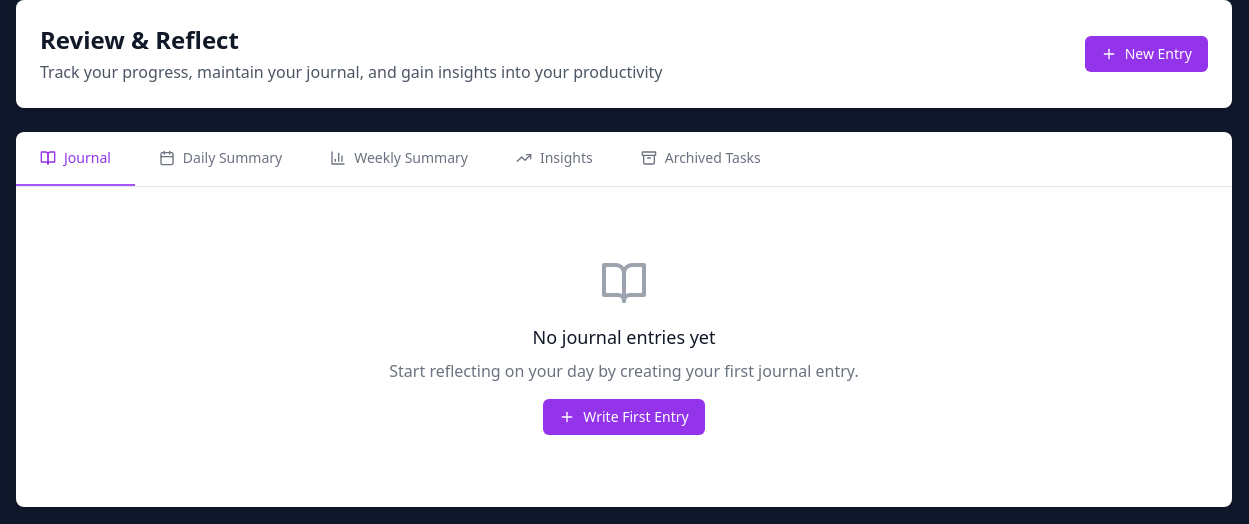
Test: TaskReview › Weekly Summary Tab › should display weekly statistics
Click the button "Weekly Summary": (399, 159) [306, 132, 492, 186]
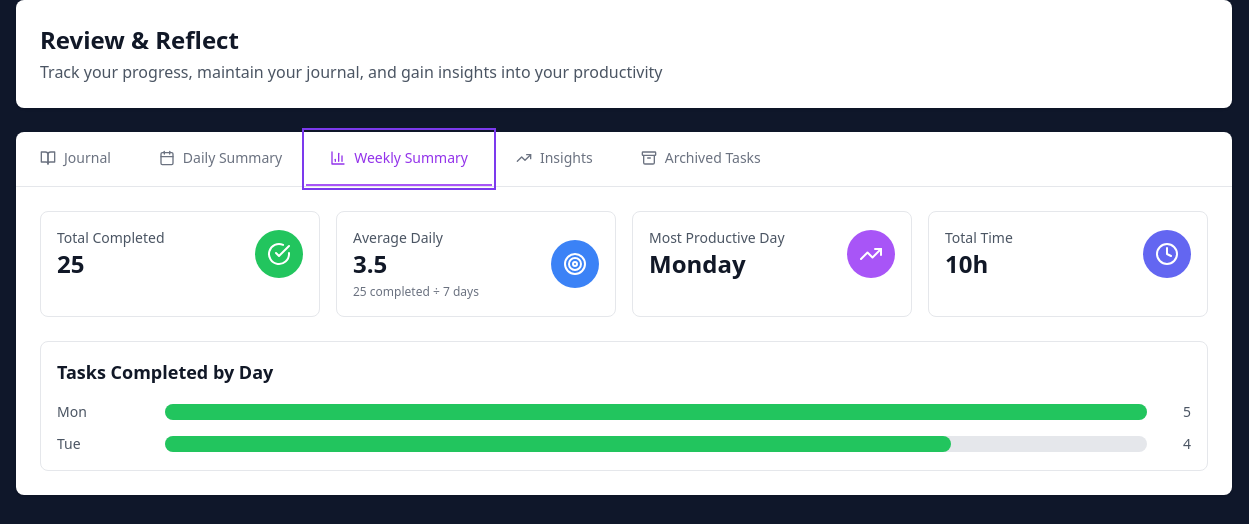
Result: the text "25" is shown at [57, 247, 84, 280]
Result: the text "Monday" is shown at [649, 247, 746, 280]
